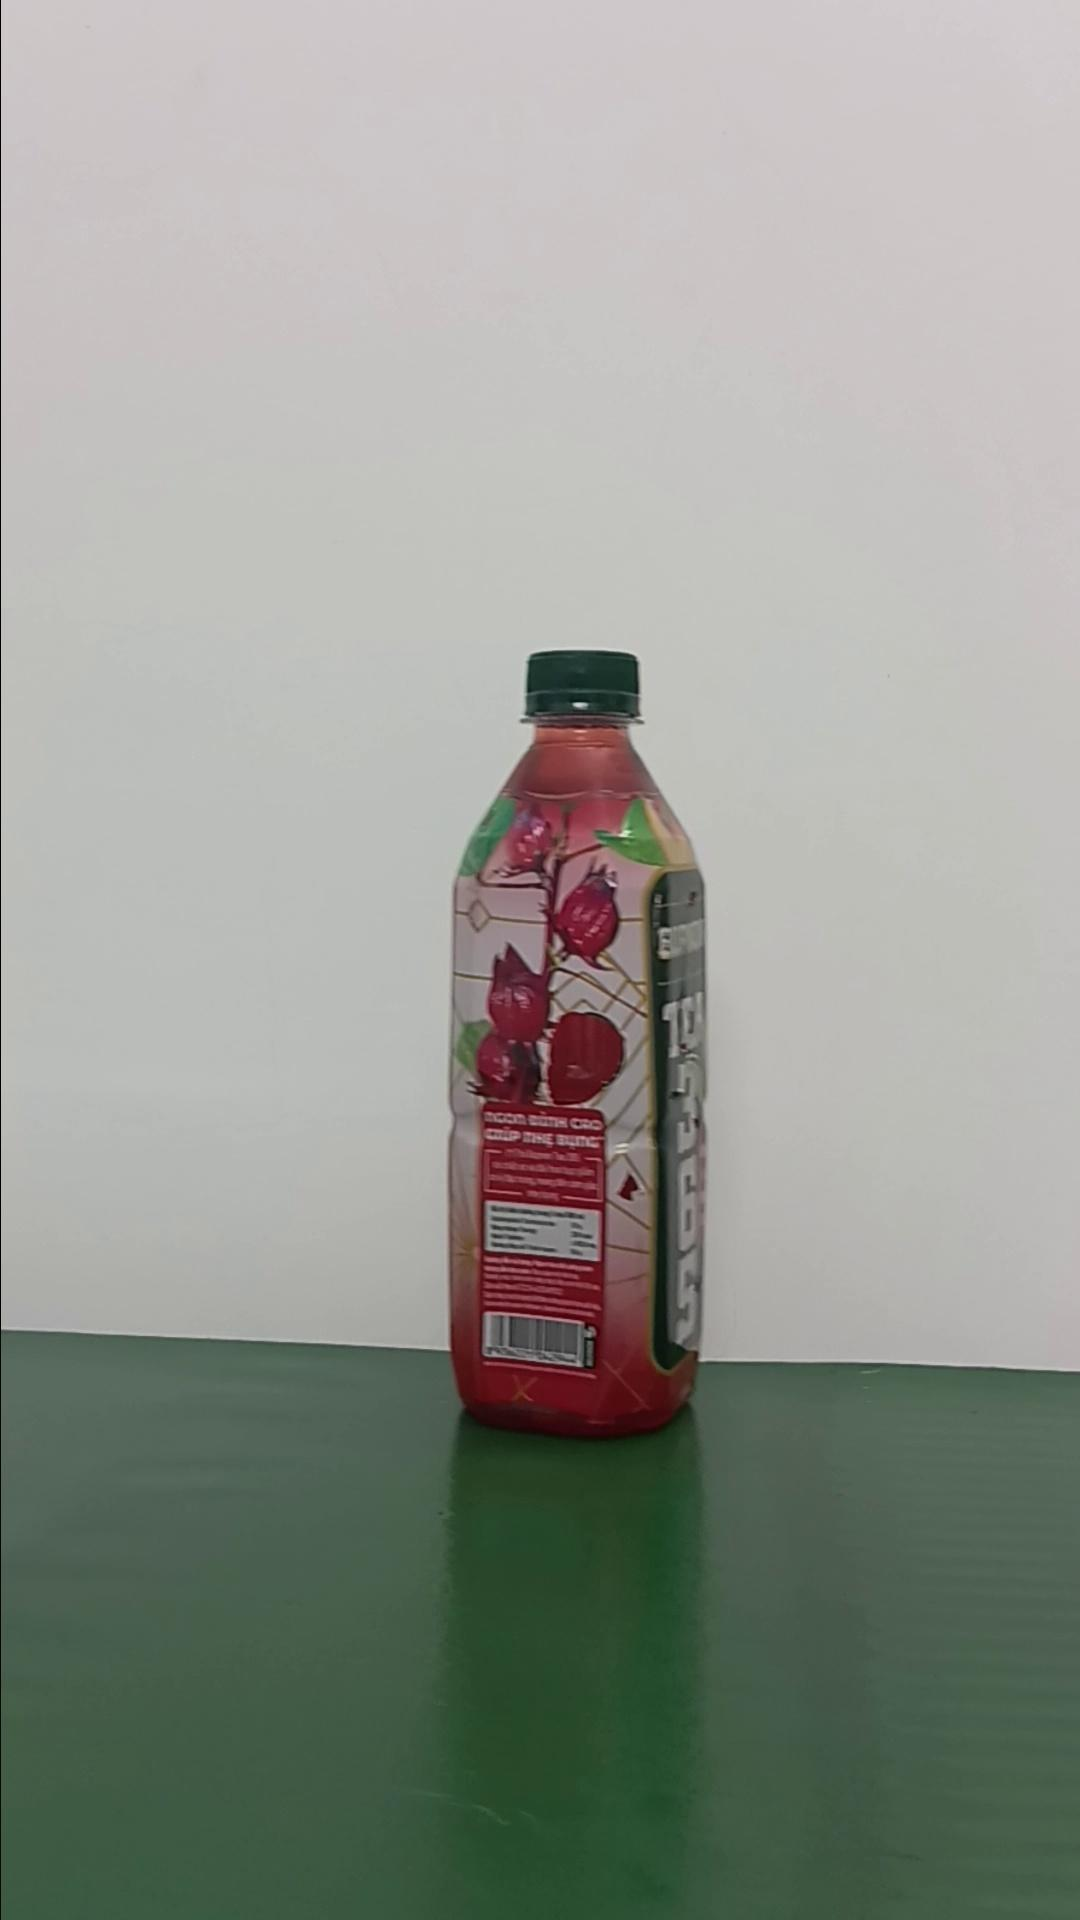loi rach va lap chai: (446, 640, 712, 1440)
